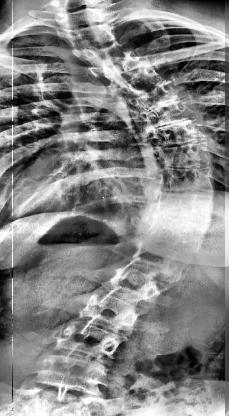Vertebrae: (47, 319, 129, 361), (95, 265, 175, 307), (68, 288, 148, 330), (28, 354, 112, 394), (121, 240, 197, 282), (136, 216, 210, 252), (144, 193, 218, 225), (153, 163, 219, 195), (146, 142, 215, 172), (122, 78, 182, 110), (106, 63, 164, 93), (144, 97, 202, 125), (147, 121, 209, 147), (89, 53, 144, 78), (60, 24, 116, 48), (76, 42, 132, 64), (54, 8, 108, 30)
